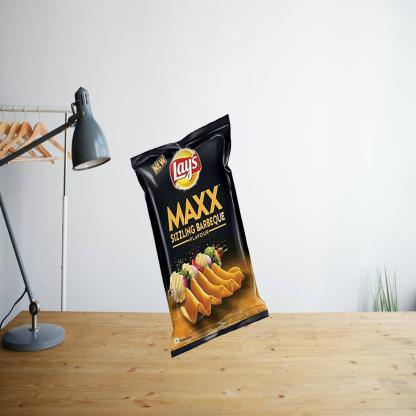maxx_sizzling_barbeque: (126, 115, 273, 345)
